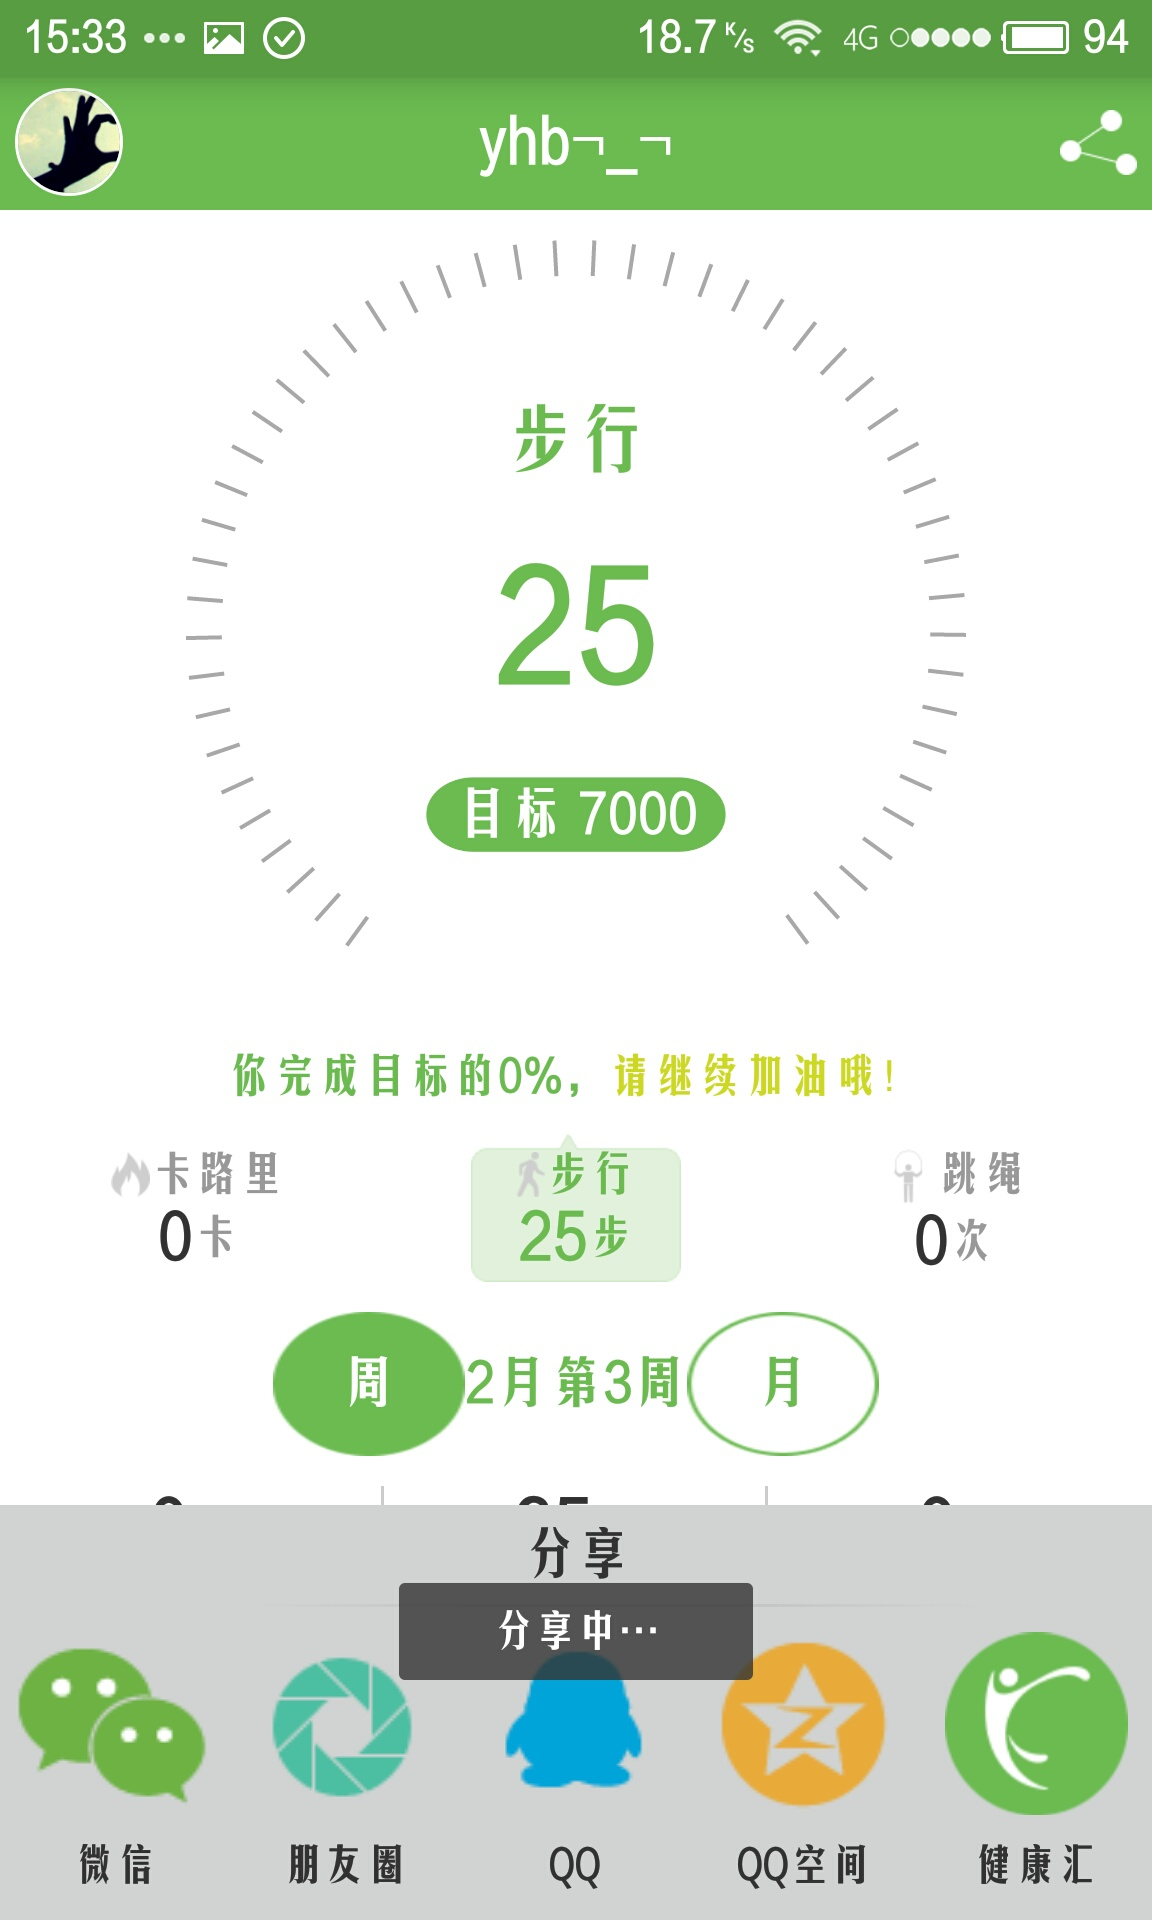alert: (395, 1576, 764, 1688)
imgbutton: (1042, 95, 1151, 192)
imgview: (171, 221, 989, 981), (10, 78, 134, 202)
